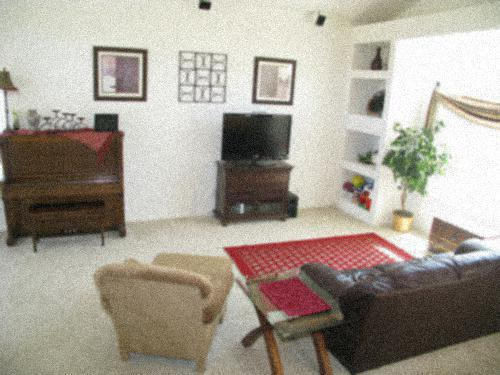Matera: (377, 126, 448, 229)
